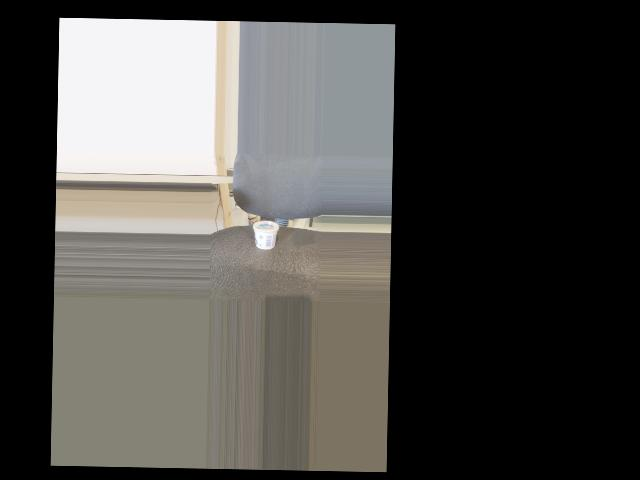cotage: (253, 219, 278, 252)
